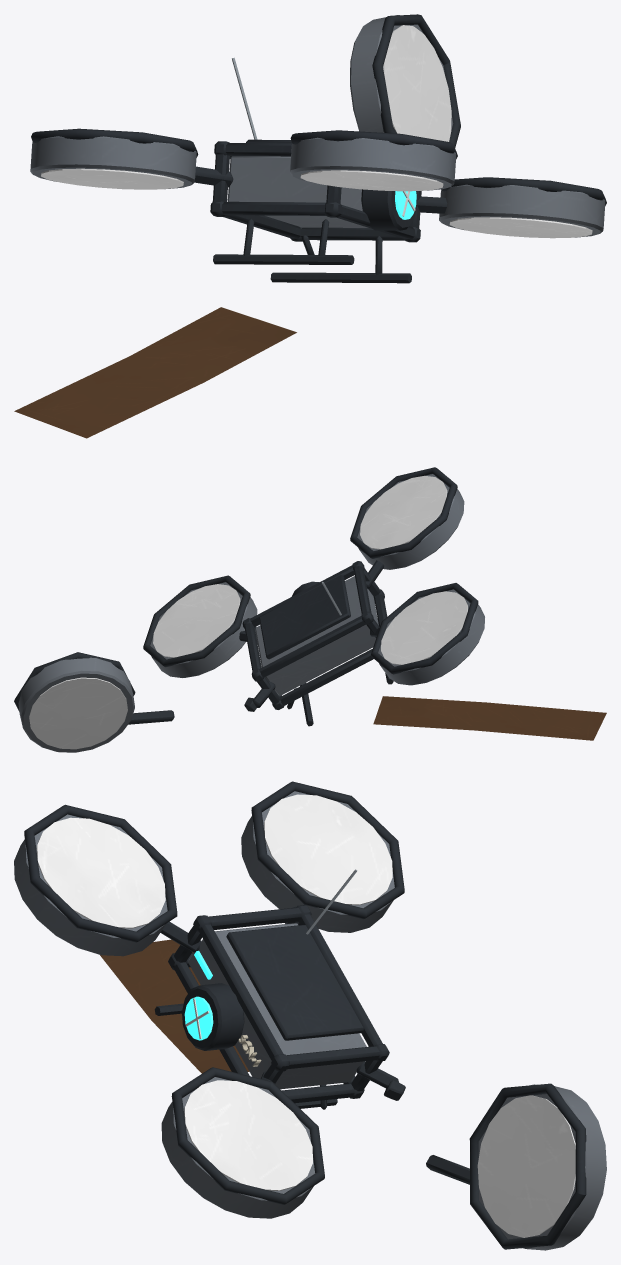
Rendered from scanner_drone_down.glb.
3 views of the same model, one above another, from view 1: azimuth 30°, elevation 25°; view 2: azimuth 150°, elevation 25°; view 3: azimuth 270°, elevation 25° (orthographic). The views are drawn at different scales.
Parts seen in each view (by area): view 1: scanner_drone_down; view 2: scanner_drone_down; view 3: scanner_drone_down.
Part boxes in pixels (x1=…): scanner_drone_down: x1=14, y1=14, x2=606, y2=438; scanner_drone_down: x1=14, y1=467, x2=606, y2=752; scanner_drone_down: x1=14, y1=781, x2=606, y2=1250.
Bounding box in the file's own units: 2.64 × 1.16 × 2.16.
Materials: 8 (6 with a texture image).
